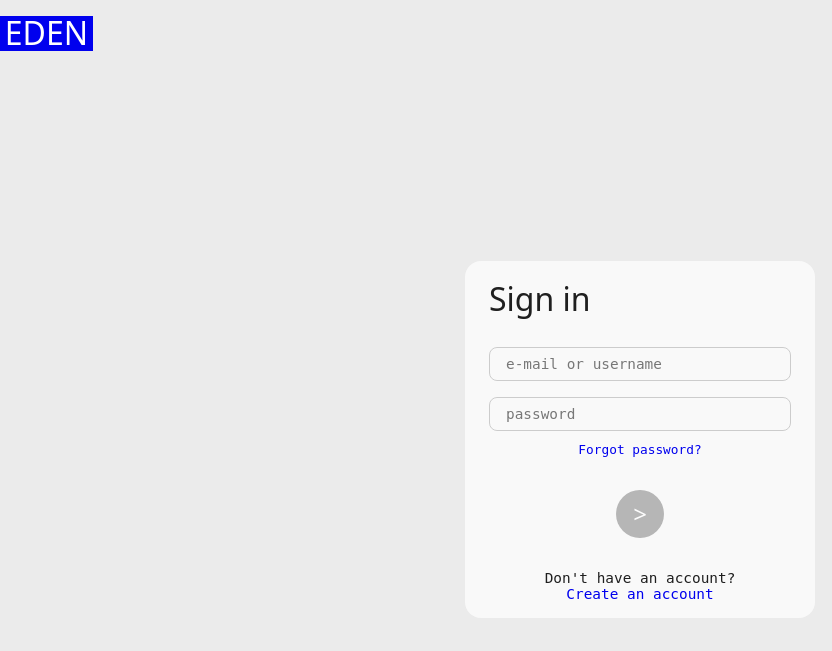
Test case: LoginPage › shows backend login errors
In the field named "Email or username": [640, 364] box [489,346,791,380], type "emma"
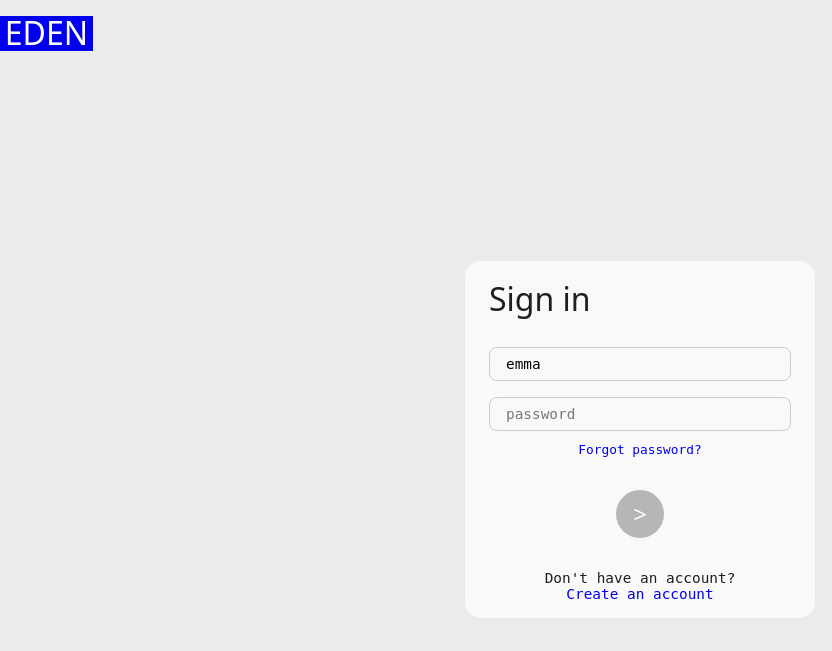
In the password field labelled "password": [640, 414] box [489,396,791,430], type "wrong-password"
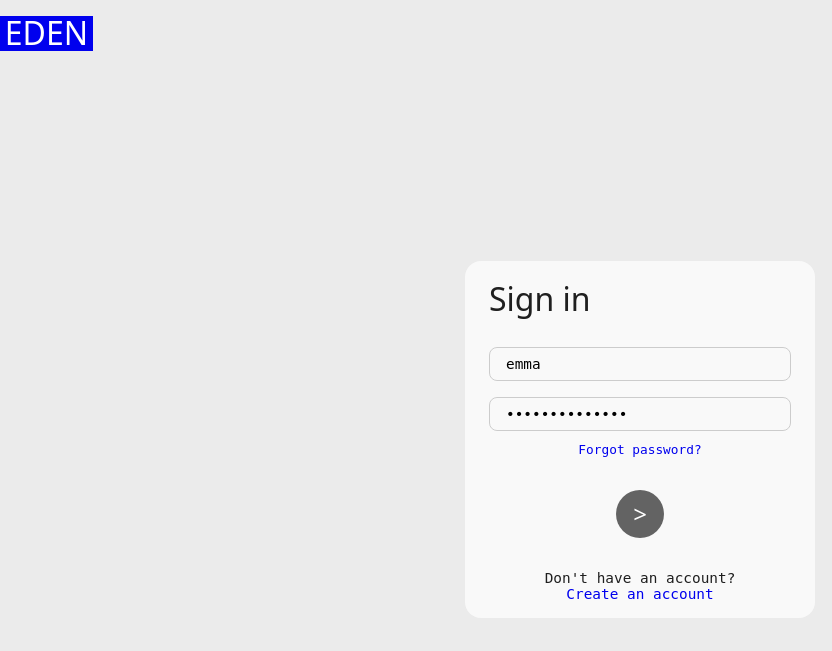
Click the button named "Sign in": [640, 514] box [616,490,664,538]
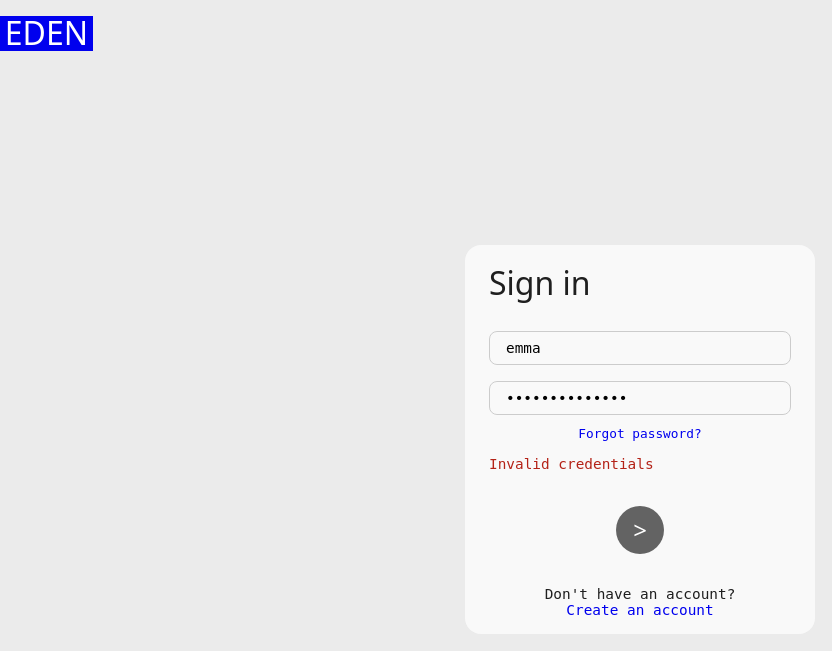
Expected: the message reads "Invalid credentials", [489,456,654,472]
